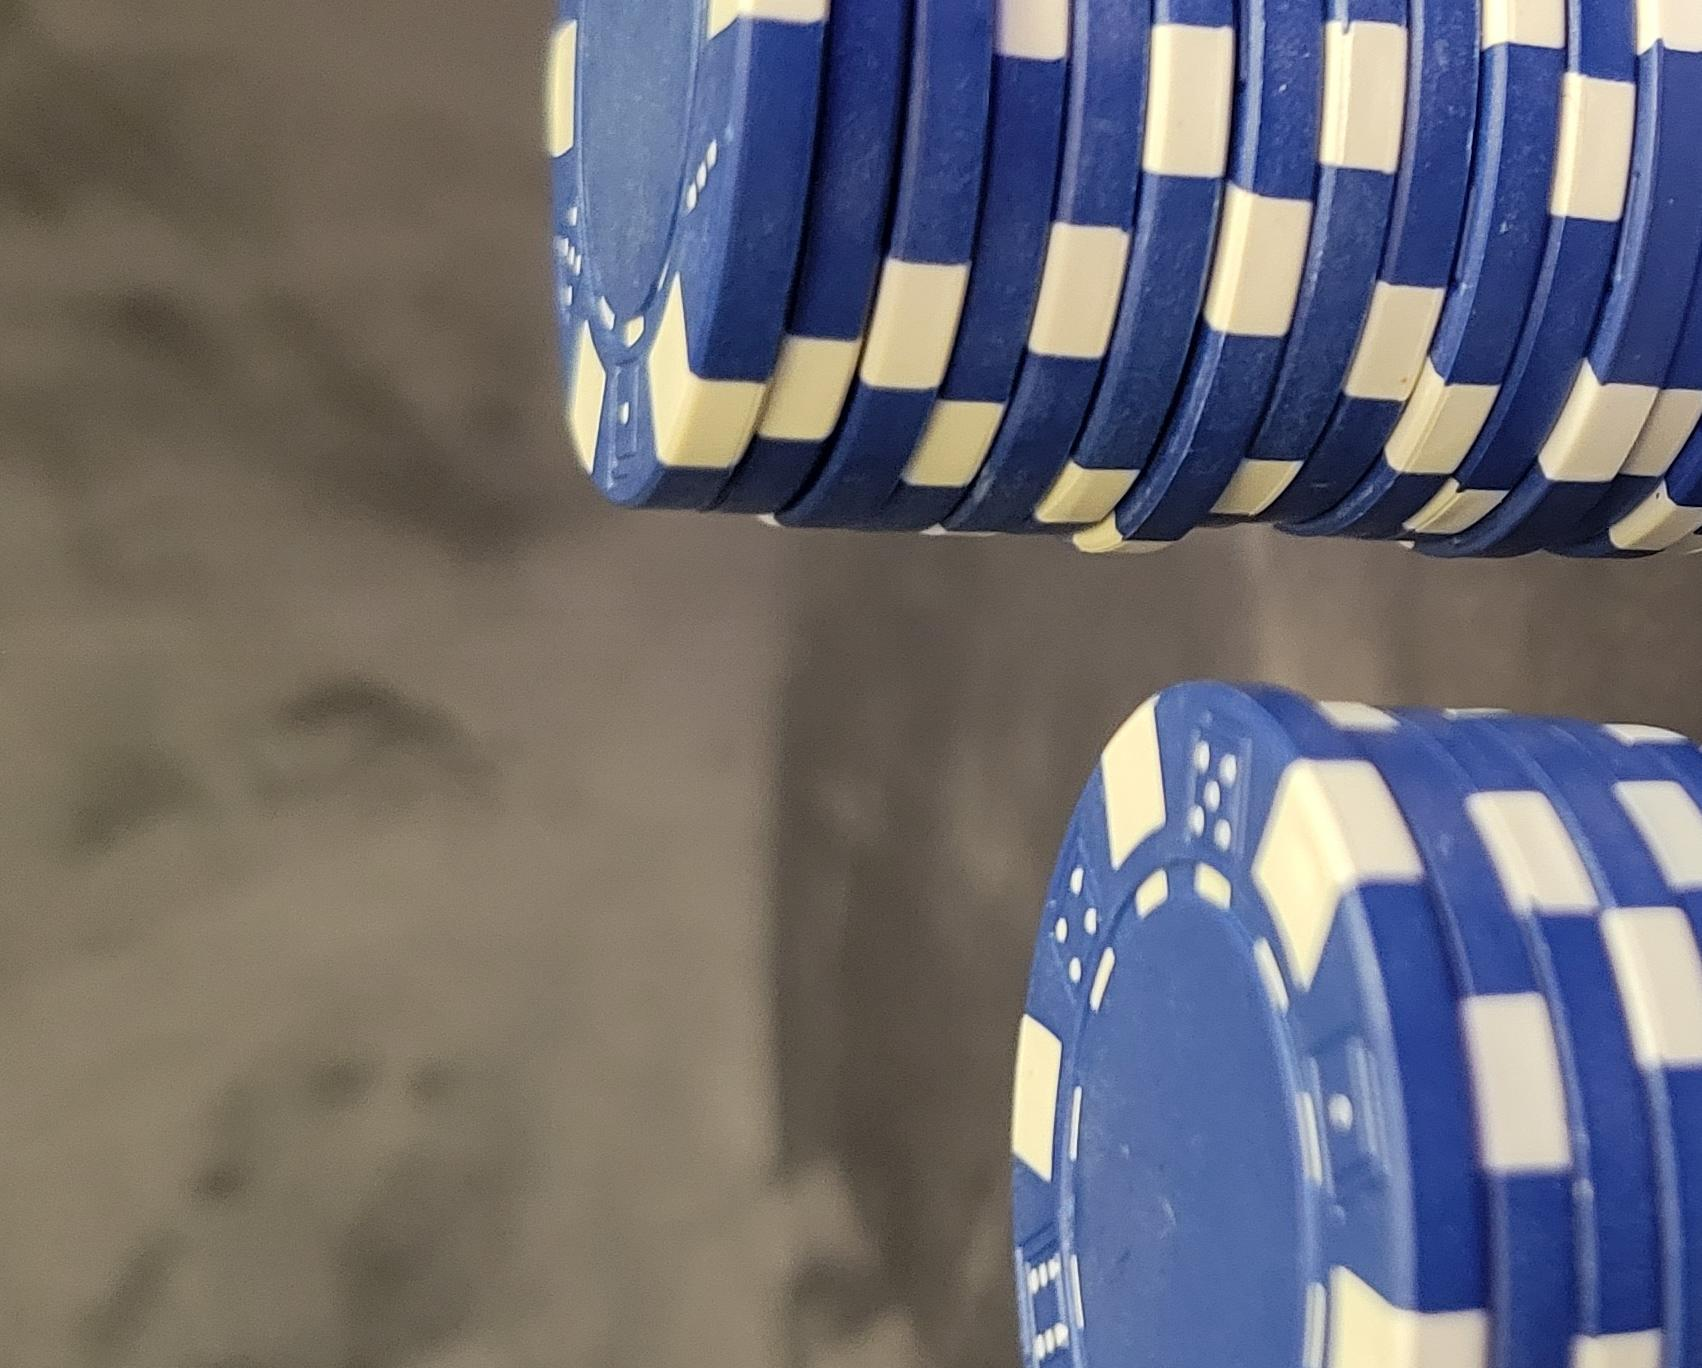Chip: (1, 321, 1209, 1368)
